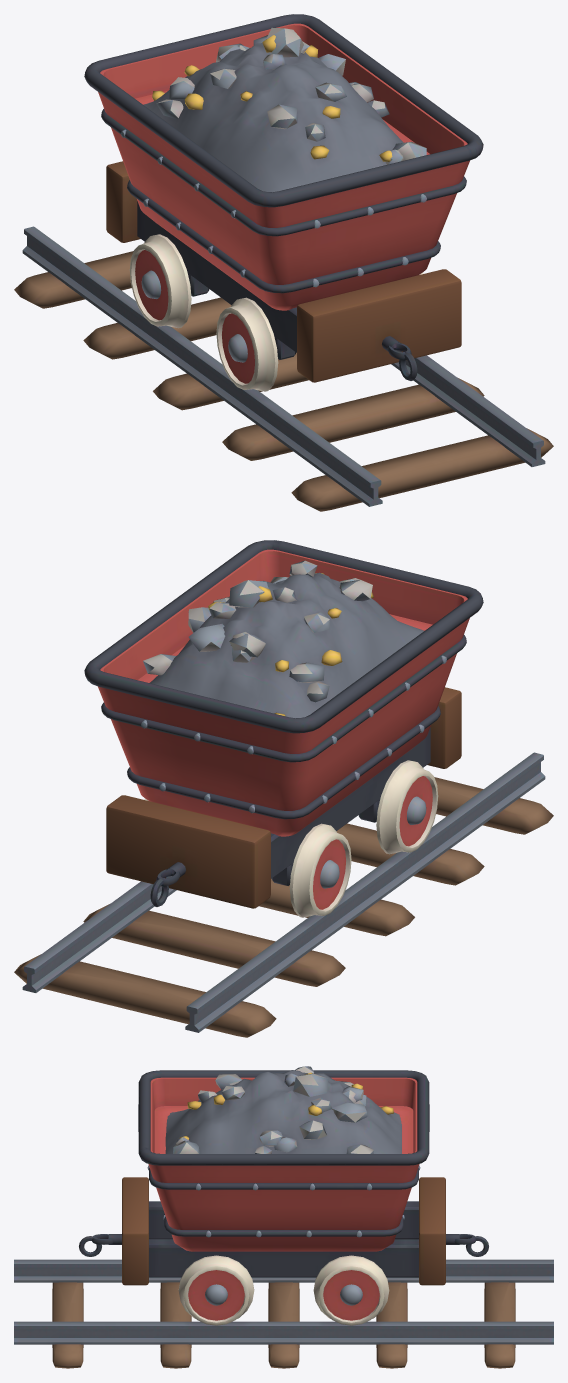
File: mine-cart.glb
The picture shows the model from 3 angles, top to bottom: view 1: azimuth 30°, elevation 25°; view 2: azimuth 150°, elevation 25°; view 3: azimuth 270°, elevation 25°; orthographic projection. The views are drawn at different scales.
Parts seen in each view (by area): view 1: mine-cart_body; view 2: mine-cart_body; view 3: mine-cart_body.
Boxes of the visible parts, box(x1,y1,x2,y2) form: mine-cart_body: box(14, 14, 553, 511); mine-cart_body: box(14, 540, 553, 1037); mine-cart_body: box(14, 1066, 553, 1368).
Size of the model in its own units: 1 by 1.27 by 2.4.
Materials: 1 (1 with a texture image).
